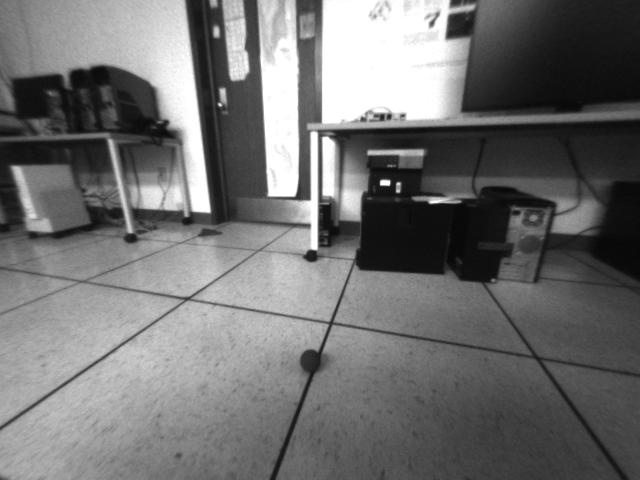dogtoy: (295, 342, 331, 377)
